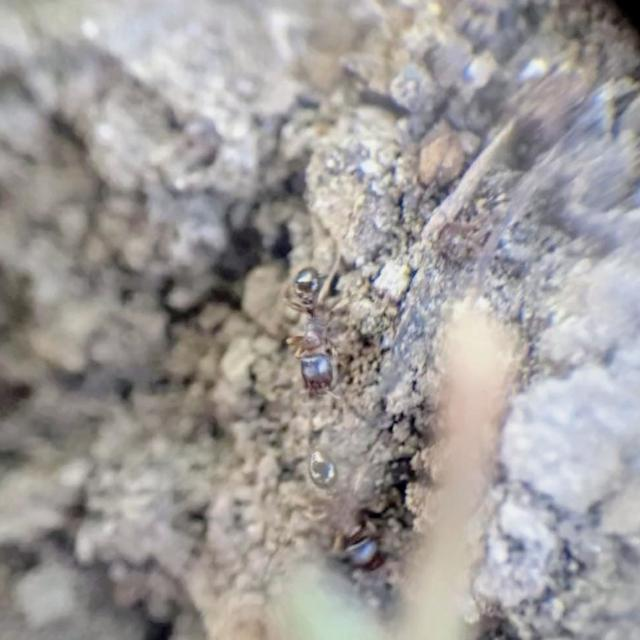Tetramorium: (286, 436, 398, 582), (266, 253, 350, 413)
